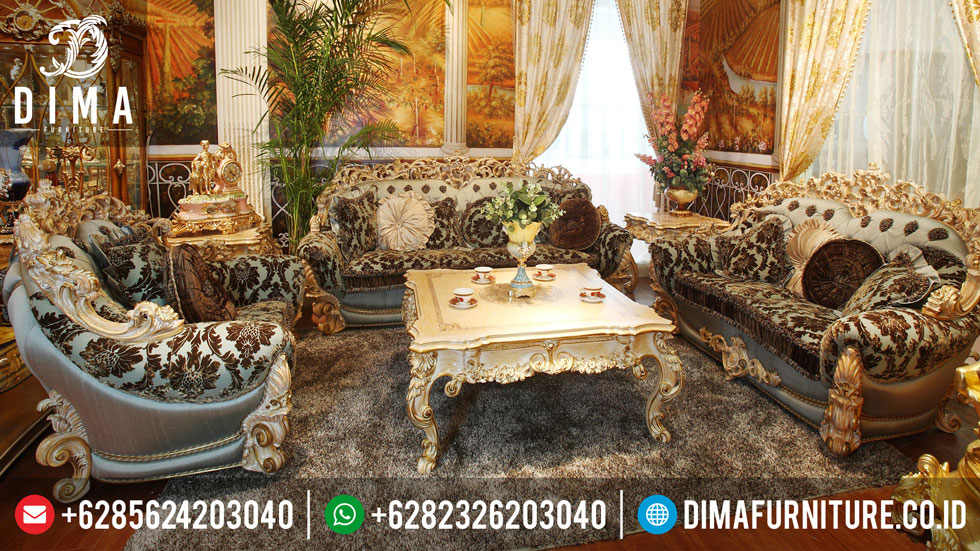Carving Chair: (21, 178, 311, 501), (661, 174, 977, 445)
Carving Table: (408, 265, 679, 465)
